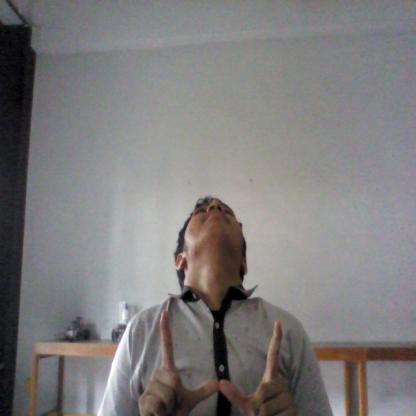W: (138, 308, 298, 414)
